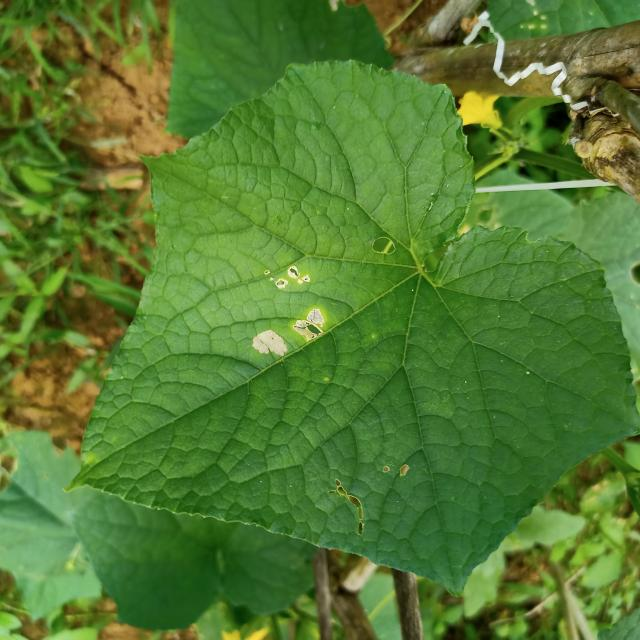disease_cucumber: (249, 252, 328, 361)
